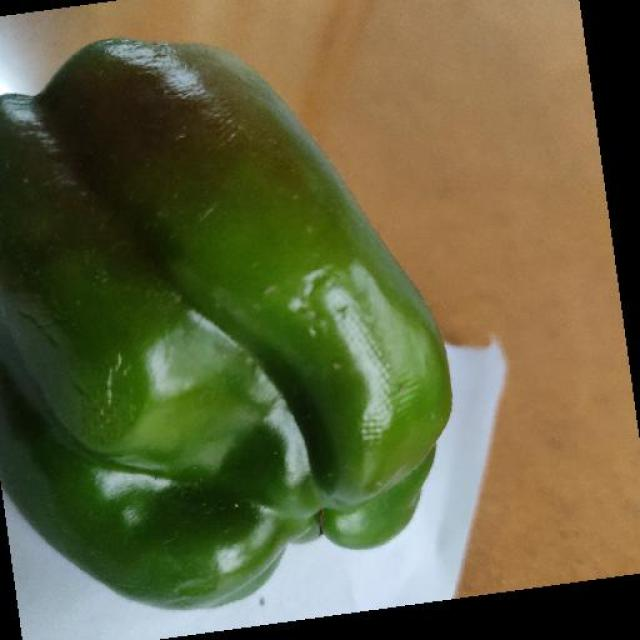Stale_Capsicum: (0, 31, 466, 562)
